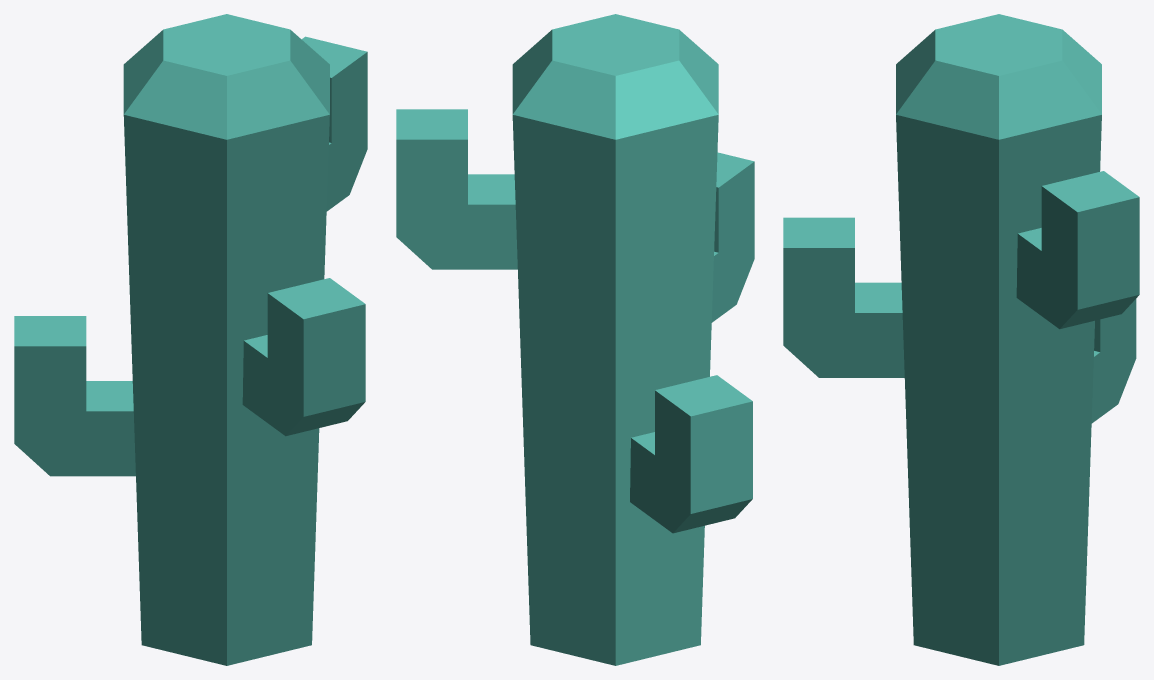
Rendered from nat_cactus_short.glb.
The picture shows the model from 3 angles, left to right: view 1: azimuth 30°, elevation 25°; view 2: azimuth 150°, elevation 25°; view 3: azimuth 270°, elevation 25°; orthographic projection.
Parts seen in each view (by area): view 1: geometry_0; view 2: geometry_0; view 3: geometry_0.
Part boxes in pixels (x1,y1,x2,y2): geometry_0: [14, 14, 367, 665]; geometry_0: [396, 14, 754, 665]; geometry_0: [783, 14, 1139, 665].
Size of the model in its own units: 0.641 by 1 by 0.5576.
